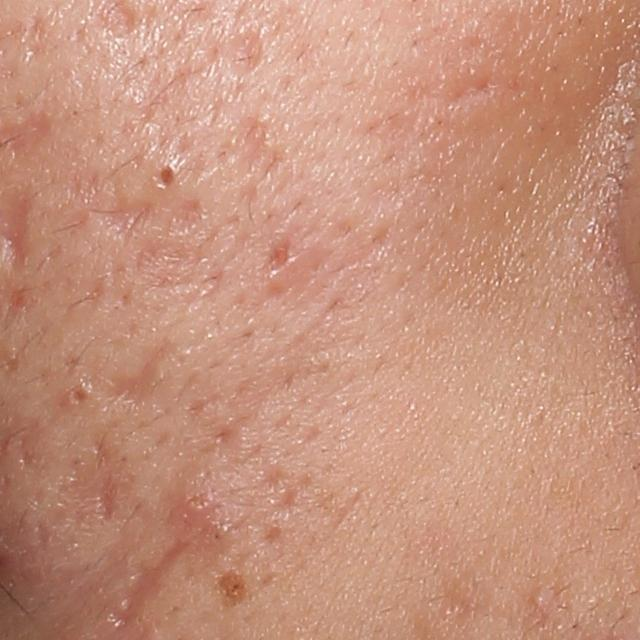atrophic_scar: (101, 190, 262, 411), (29, 424, 136, 556), (101, 530, 211, 630), (220, 27, 271, 86), (439, 70, 499, 112), (269, 482, 300, 516), (270, 239, 294, 271)
comedo: (152, 158, 185, 192), (66, 384, 94, 409), (527, 584, 553, 610)
papule: (167, 476, 218, 520)
